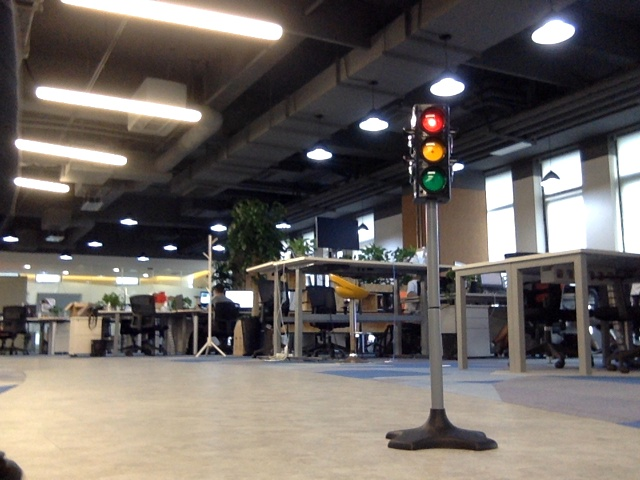red: (416, 111, 445, 197)
